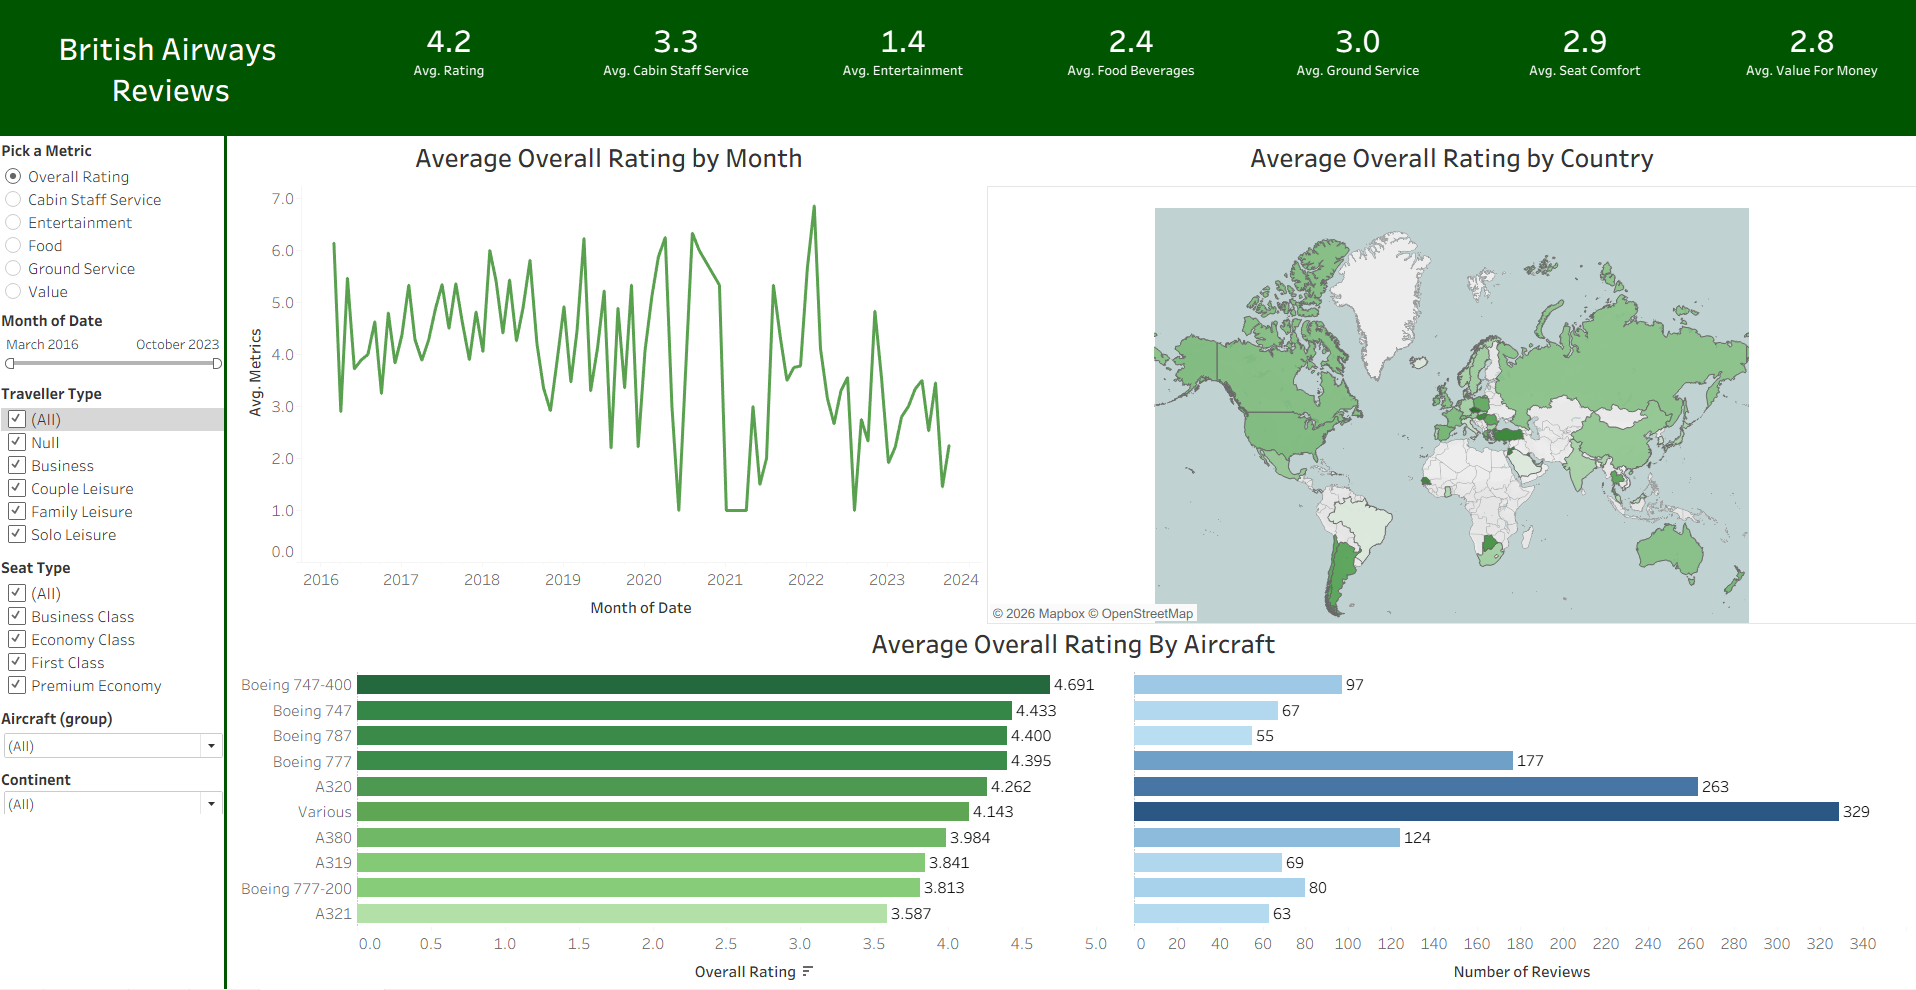

The page's visual inventory and layout, read from the dashboard file:
{"tool":"tableau","page":{"name":"Dashboard 1","canvas":[1000,1000],"units":"permille","ordinal":0},"visuals":[{"type":"worksheet","title":"Month","mark":"Automatic","rows":["Calculation_1863082925969547264"],"cols":["date"],"box":[125,141.2,387.7,492.5]},{"type":"worksheet","title":"Map","mark":"Automatic","box":[515.7,141.2,484.3,491.2]},{"type":"parameter","param":"[Parameters].[Parameter 1]","box":[0,143.8,121.5,208.8]},{"type":"filter","title":"Map","param":"[federated.1g7m1g112s8uts10onfu51mw5fqz].[tmn:date:qk]","box":[0,352.5,121.5,91.2]},{"type":"filter","title":"Map","param":"[federated.1g7m1g112s8uts10onfu51mw5fqz].[none:traveller_type:nk]","box":[0,443.8,121.5,217.5]},{"type":"worksheet","title":"Aircraft","mark":"Automatic","cols":["Calculation_1863082925969547264","ba_reviews.csv_1C1427A90EA64DEF8B8EB79F31DC7B4E"],"box":[125,630,871.4,370]},{"type":"filter","title":"Map","param":"[federated.1g7m1g112s8uts10onfu51mw5fqz].[none:seat_type:nk]","box":[0,661.2,121.5,188.8]},{"type":"filter","title":"Map","param":"[federated.1g7m1g112s8uts10onfu51mw5fqz].[Aircraft (group)]","box":[0,850,121.5,76.2]},{"type":"filter","title":"Map","param":"[federated.1g7m1g112s8uts10onfu51mw5fqz].[none:Continent:nk]","box":[0,926.2,121.5,66.2]}]}

Visuals, with their boxes on the dashboard's canvas, which has no fixed pixel size, in thousandths of its width and height (x1, y1, x2, y2). These are canvas units, not pixel positions in the 1916x990 screenshot, which may show the page scaled, cropped or inside an application window:
"Month" worksheet: {"x1": 125, "y1": 141, "x2": 513, "y2": 634}
"Map" worksheet: {"x1": 516, "y1": 141, "x2": 1000, "y2": 632}
parameter: {"x1": 0, "y1": 144, "x2": 122, "y2": 353}
"Map" filter: {"x1": 0, "y1": 352, "x2": 122, "y2": 444}
"Map" filter: {"x1": 0, "y1": 444, "x2": 122, "y2": 661}
"Aircraft" worksheet: {"x1": 125, "y1": 630, "x2": 996, "y2": 1000}
"Map" filter: {"x1": 0, "y1": 661, "x2": 122, "y2": 850}
"Map" filter: {"x1": 0, "y1": 850, "x2": 122, "y2": 926}
"Map" filter: {"x1": 0, "y1": 926, "x2": 122, "y2": 992}
